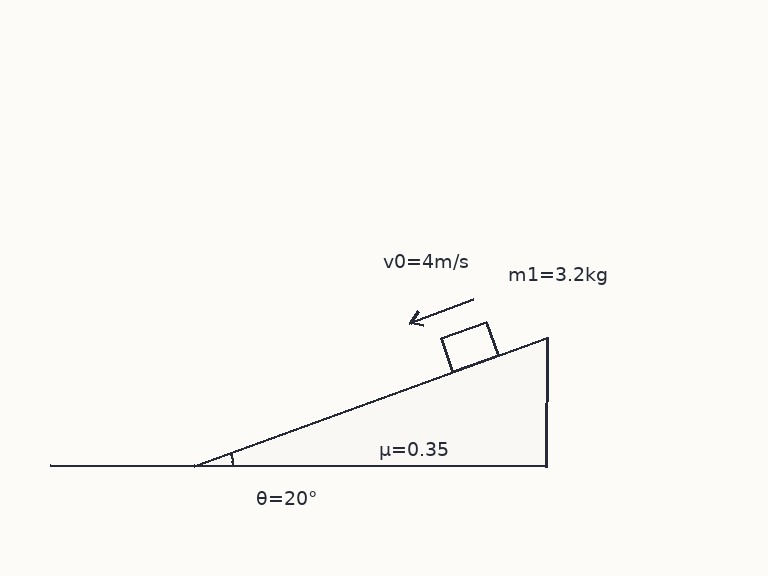block: (438, 319, 500, 374)
ramp: (191, 335, 548, 468)
